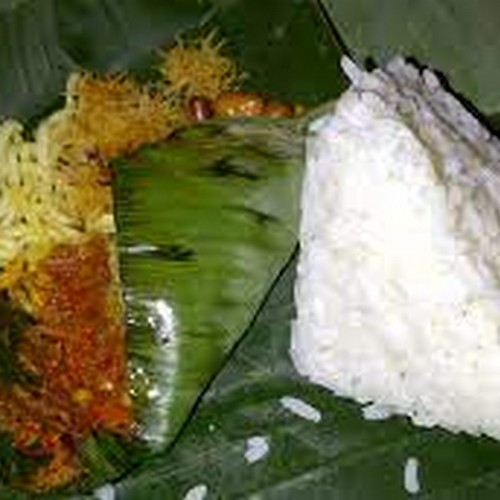nasi jinggo: (15, 71, 458, 418)
